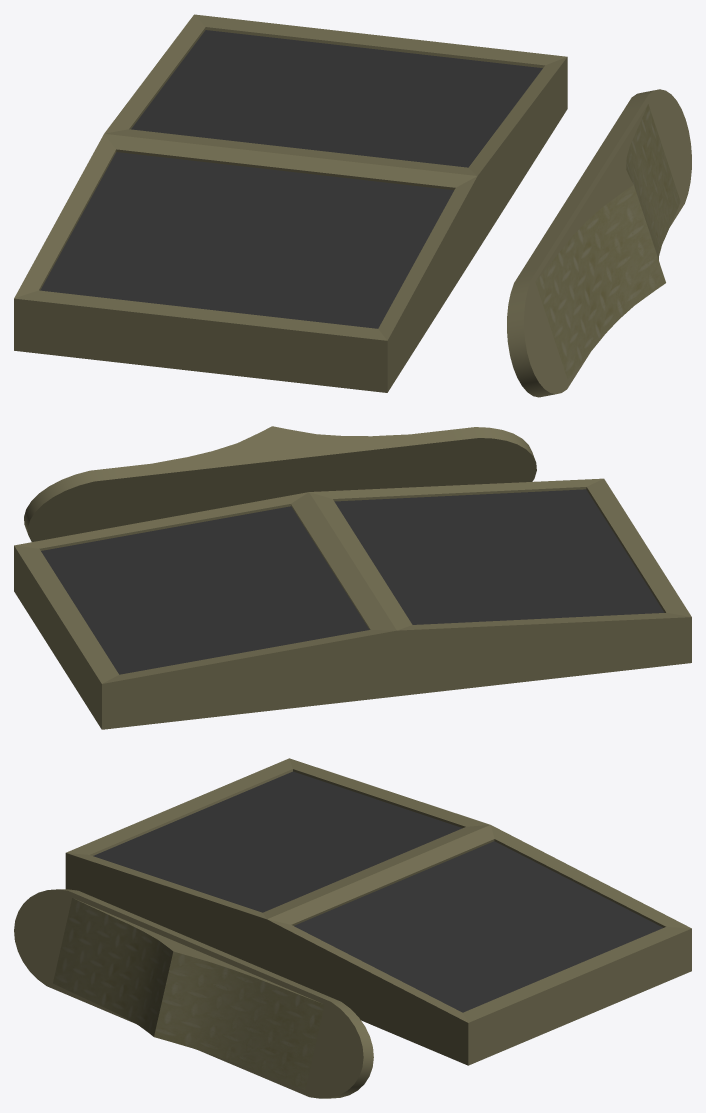
File: LaserMirrors.fbx
The picture shows the model from 3 angles, top to bottom: view 1: azimuth 30°, elevation 25°; view 2: azimuth 150°, elevation 25°; view 3: azimuth 270°, elevation 25°; orthographic projection. The views are drawn at different scales.
Visible parts, largest first — view 1: Cube.103, Cube.105, Cube.104, Circle.065; view 2: Cube.103, Cube.104, Cube.105, Circle.065; view 3: Cube.103, Circle.065, Cube.104, Cube.105.
Boxes of the visible parts, x1,y1,x2,y2 form: Cube.103: [14, 14, 567, 392]; Cube.105: [40, 152, 453, 328]; Cube.104: [131, 30, 542, 167]; Circle.065: [507, 89, 691, 397]; Cube.103: [14, 478, 691, 729]; Cube.104: [41, 506, 369, 674]; Cube.105: [334, 489, 664, 624]; Circle.065: [24, 426, 536, 541]; Cube.103: [65, 758, 691, 1065]; Circle.065: [14, 889, 373, 1098]; Cube.104: [294, 841, 663, 1012]; Cube.105: [93, 771, 462, 912].
Bounding box in the file's own units: 5.09 × 0.7984 × 5.09.
